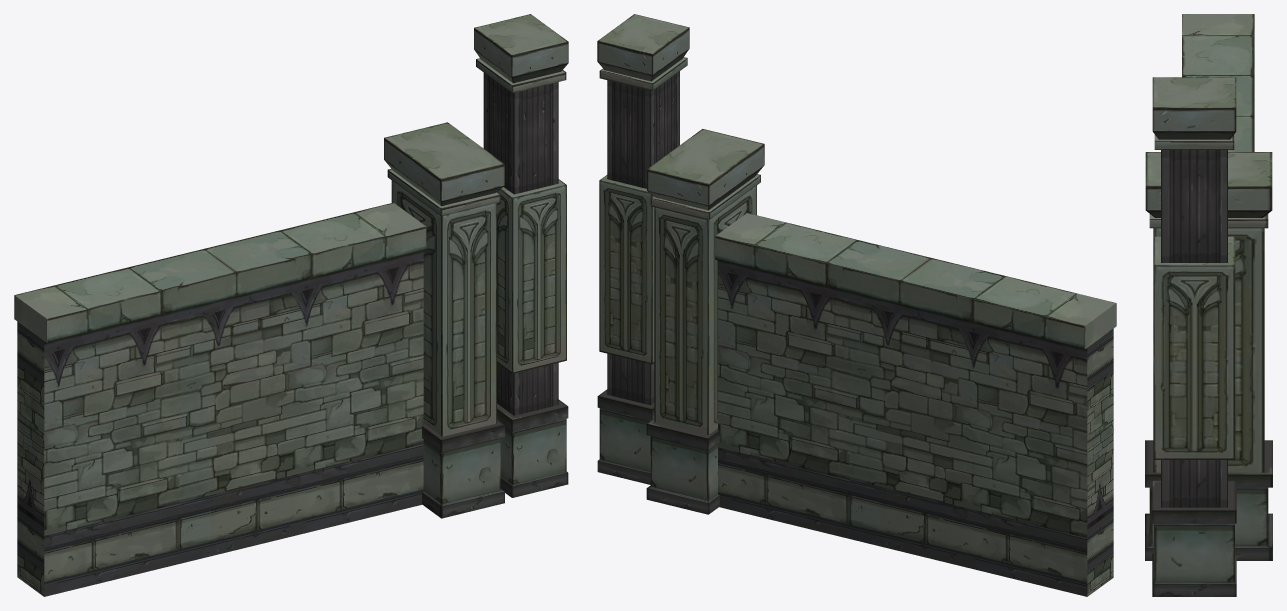
Rendered from 2_WGJ_WeiQiang_01.FBX.
The picture shows the model from 3 angles, left to right: view 1: azimuth 30°, elevation 25°; view 2: azimuth 150°, elevation 25°; view 3: azimuth 270°, elevation 25°; orthographic projection. The views are drawn at different scales.
Visible parts, largest first — view 1: 2_WGJ_WeiQiang_01_01, 2_WGJ_WeiQiang_01_03, 2_WGJ_WeiQiang_01_02; view 2: 2_WGJ_WeiQiang_01_01, 2_WGJ_WeiQiang_01_03, 2_WGJ_WeiQiang_01_02; view 3: 2_WGJ_WeiQiang_01_03, 2_WGJ_WeiQiang_01_02, 2_WGJ_WeiQiang_01_01.
Boxes of the visible parts, <box> form: 2_WGJ_WeiQiang_01_01: <box>14,202,426,596</box>; 2_WGJ_WeiQiang_01_03: <box>474,14,568,497</box>; 2_WGJ_WeiQiang_01_02: <box>384,122,504,518</box>; 2_WGJ_WeiQiang_01_01: <box>715,213,1116,596</box>; 2_WGJ_WeiQiang_01_03: <box>597,14,689,484</box>; 2_WGJ_WeiQiang_01_02: <box>646,129,764,514</box>; 2_WGJ_WeiQiang_01_03: <box>1152,77,1236,596</box>; 2_WGJ_WeiQiang_01_02: <box>1145,152,1272,560</box>; 2_WGJ_WeiQiang_01_01: <box>1182,14,1254,151</box>.
Size of the model in its own units: 1340 by 1116 by 264.
2 materials, 2 textured.
